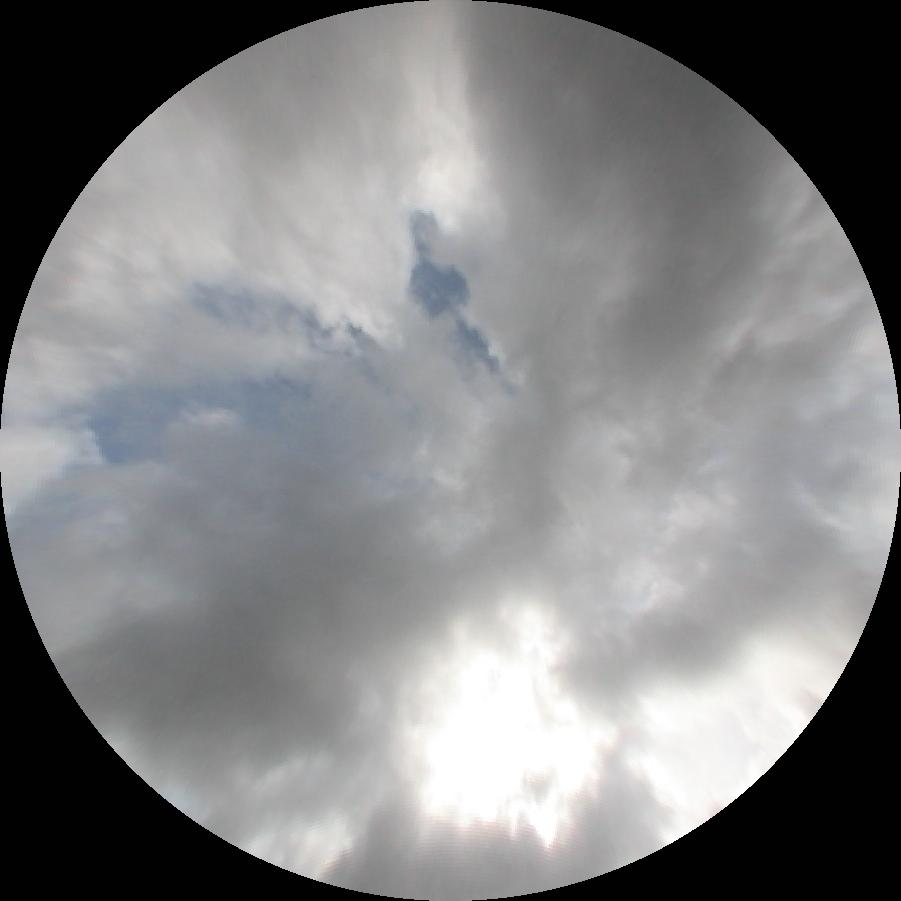sun: (438, 686, 541, 808)
